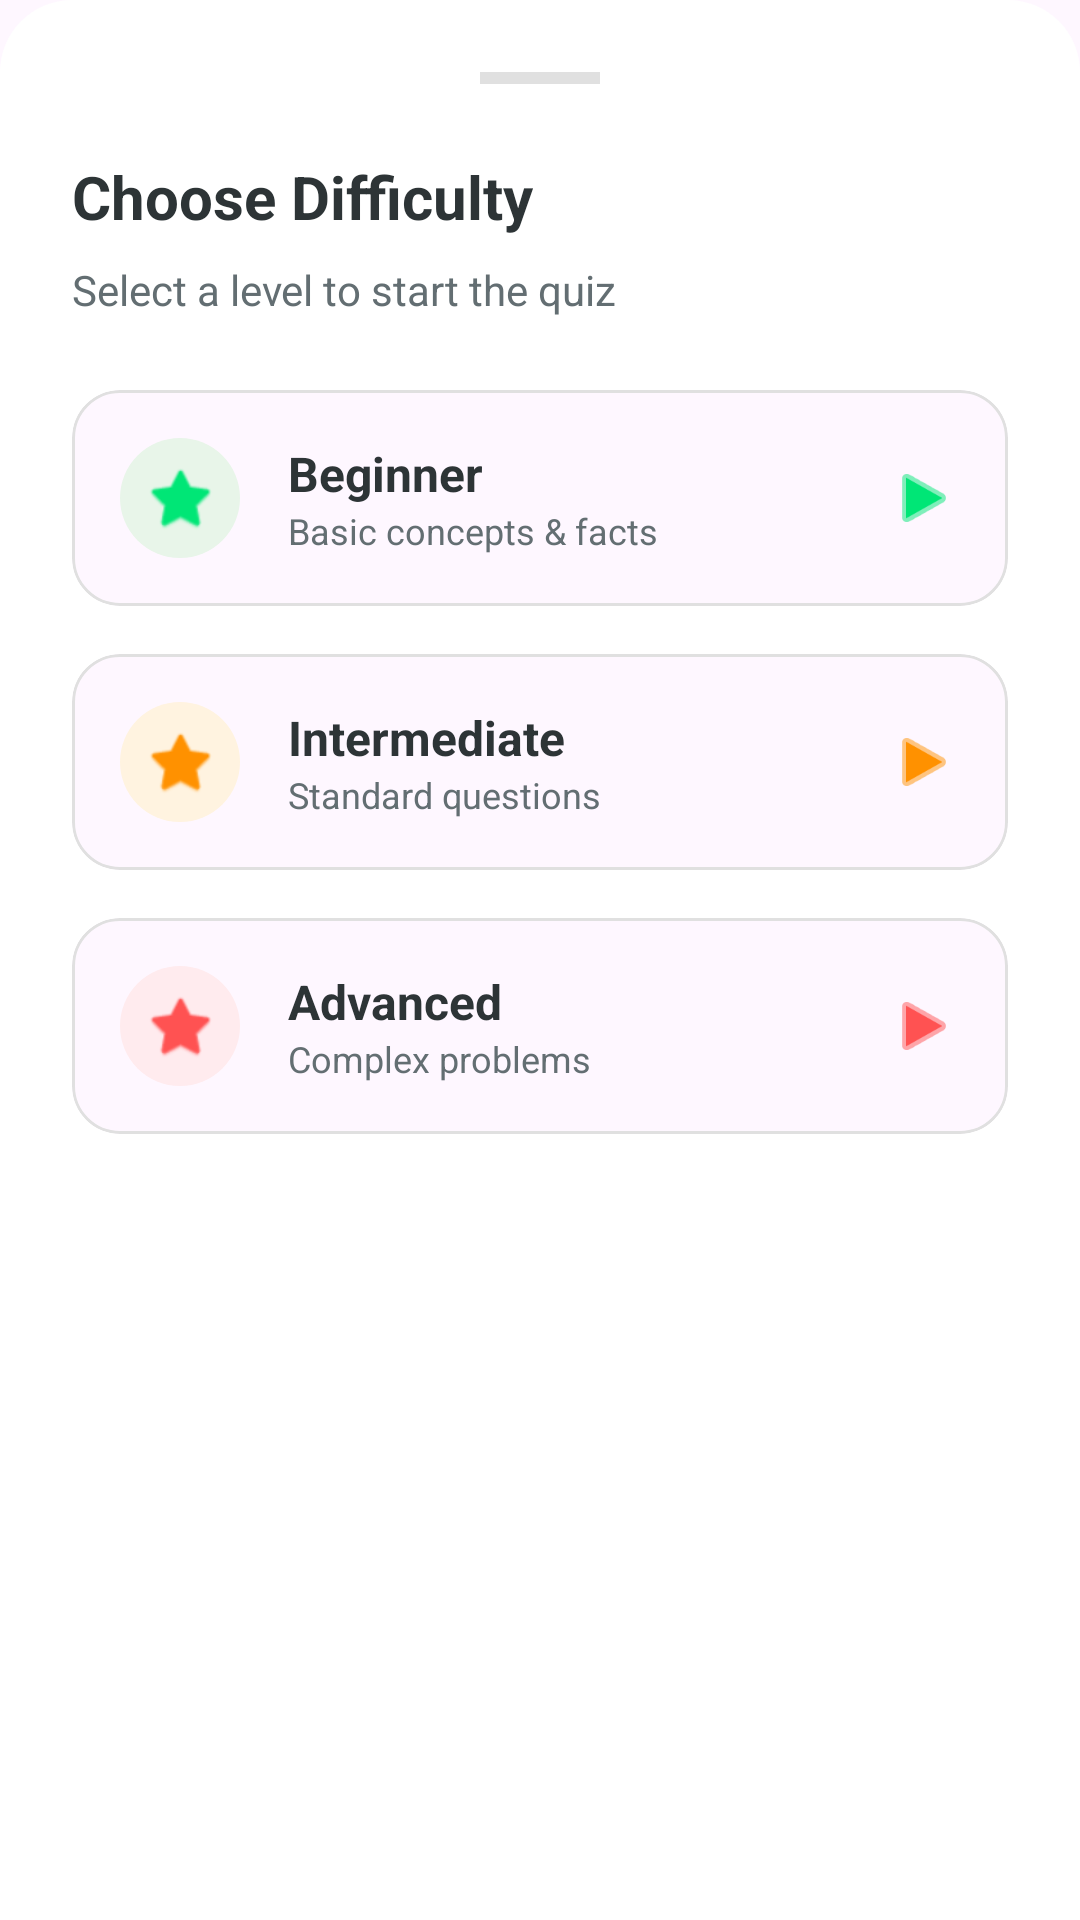

Screen size 1080x1920. Icon name, then its box in pixels as (x1, y1, x2, y2):
play: (902, 474, 946, 522), (902, 738, 946, 786), (902, 1002, 946, 1050)
star on: (149, 468, 212, 530), (120, 702, 240, 822), (150, 997, 211, 1057)
